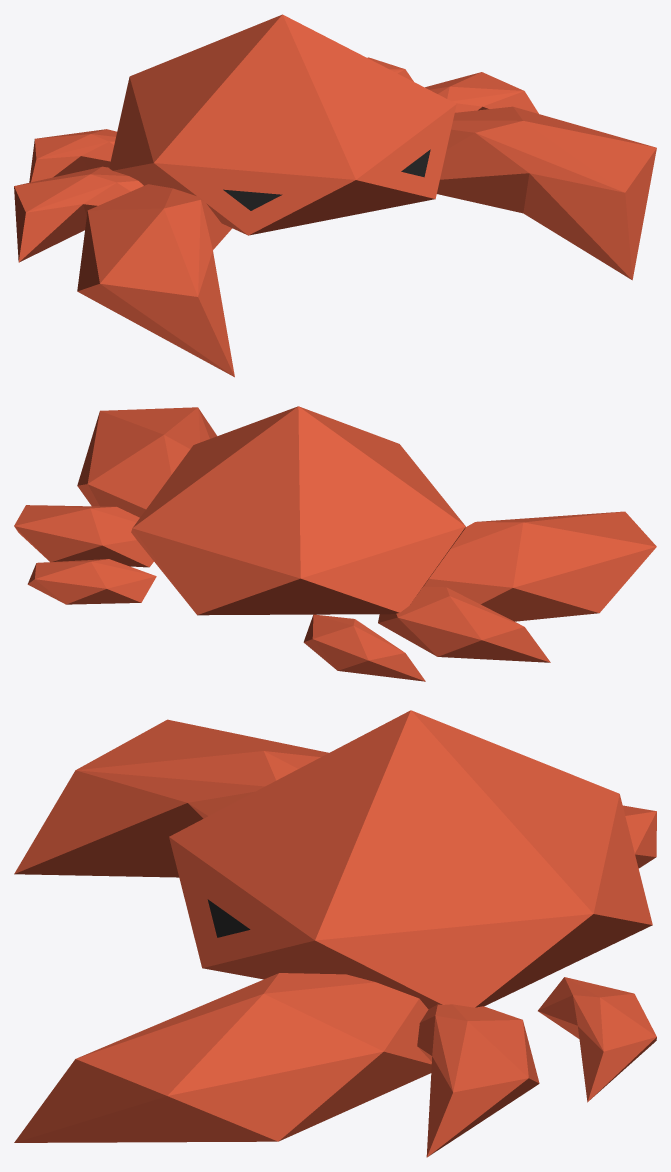
File: crab.glb
3 renders of one model, top to bottom at view 1: azimuth 30°, elevation 25°; view 2: azimuth 150°, elevation 25°; view 3: azimuth 270°, elevation 25°, orthographic. The views are drawn at different scales.
Visible parts, largest first — view 1: crab; view 2: crab; view 3: crab.
Boxes of the visible parts, x1,y1,x2,y2 form: crab: [14, 14, 656, 377]; crab: [14, 406, 656, 681]; crab: [14, 710, 656, 1157].
Bounding box in the file's own units: 1.09 × 0.3969 × 0.7891.
Materials: 1 (1 with a texture image).
